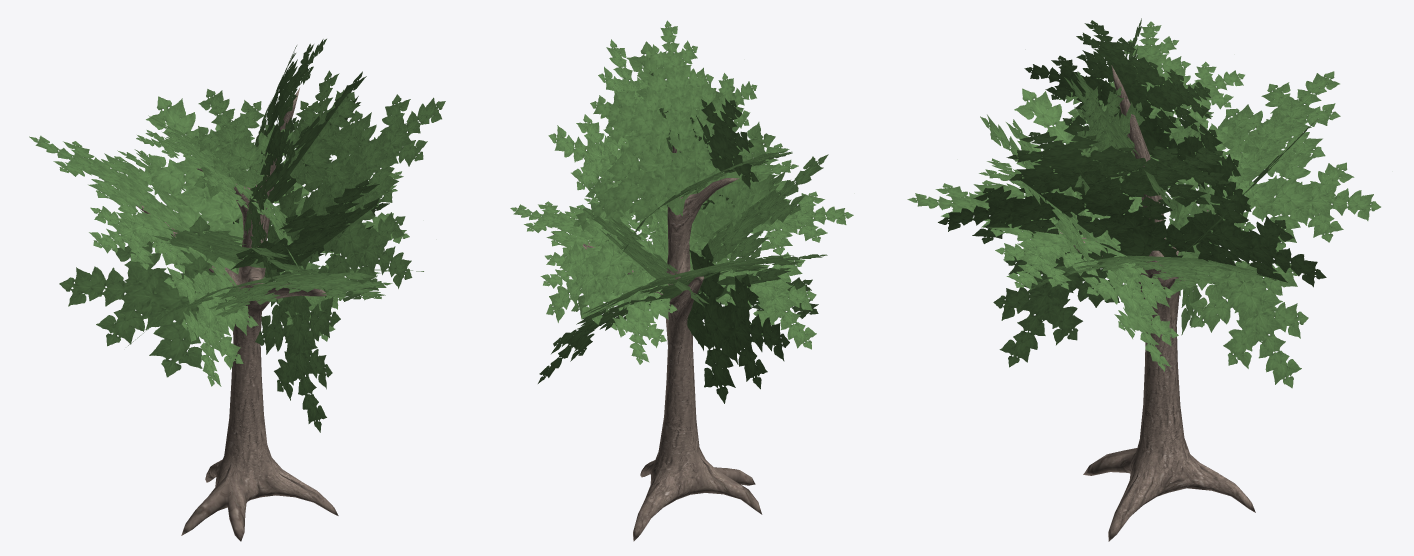
File: Tree.obj
The picture shows the model from 3 angles, left to right: view 1: azimuth 30°, elevation 25°; view 2: azimuth 150°, elevation 25°; view 3: azimuth 270°, elevation 25°; orthographic projection. The views are drawn at different scales.
Visible parts, largest first — view 1: Tree; view 2: Tree; view 3: Tree.
Boxes of the visible parts, x1=… form: Tree: x1=29, y1=39, x2=445, y2=541; Tree: x1=510, y1=20, x2=853, y2=541; Tree: x1=907, y1=18, x2=1380, y2=541.
Size of the model in its own units: 11.14 by 15.14 by 13.15.
Materials: 3 (3 with a texture image).
